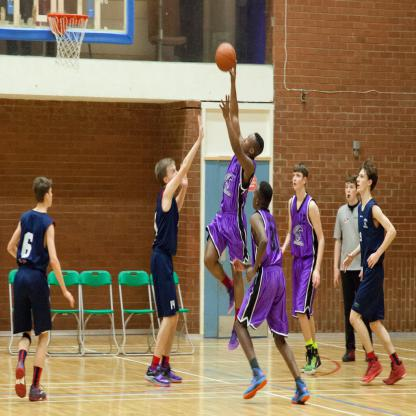Ball: (214, 43, 237, 74)
